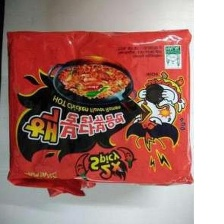snack: (0, 22, 197, 203)
